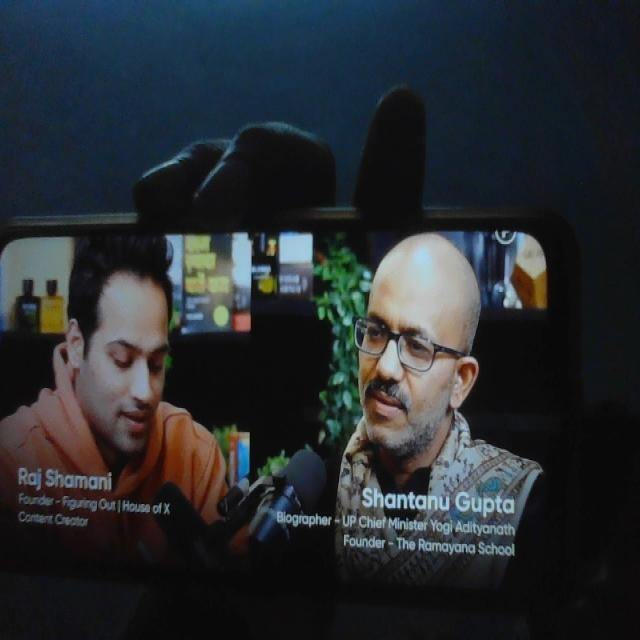fake: (336, 210, 471, 466), (59, 224, 183, 459)
